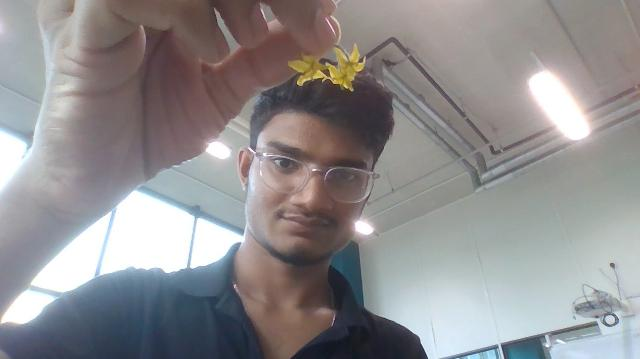Anthesis: (327, 43, 366, 91), (286, 53, 329, 86)
